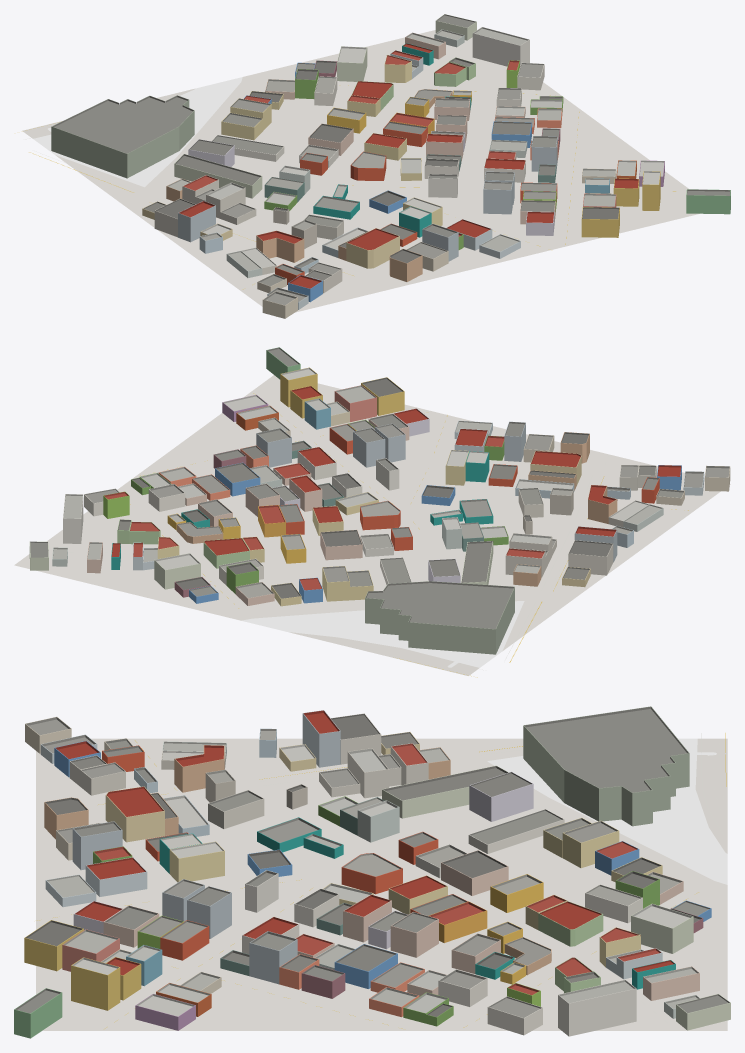
3 renders of one model, top to bottom at view 1: azimuth 30°, elevation 25°; view 2: azimuth 150°, elevation 25°; view 3: azimuth 270°, elevation 25°, orthographic. The views are drawn at different scales.
Visible parts, largest first — view 1: ground, walls, roofs, grass; view 2: ground, roofs, walls, grass; view 3: walls, roofs, ground, grass.
Boxes of the visible parts, box(x1,y1,x2,y2) form: ground: box(22, 30, 699, 316); walls: box(51, 21, 730, 318); roofs: box(52, 14, 730, 305); grass: box(33, 77, 242, 187); ground: box(14, 375, 730, 675); roofs: box(29, 347, 730, 629); walls: box(29, 350, 730, 654); grass: box(241, 601, 524, 667); walls: box(14, 714, 730, 1038); roofs: box(14, 706, 730, 1018); ground: box(36, 738, 727, 1030); grass: box(487, 738, 727, 884).
Size of what is drawn, in the model's own units: 266 by 14.15 by 259.
